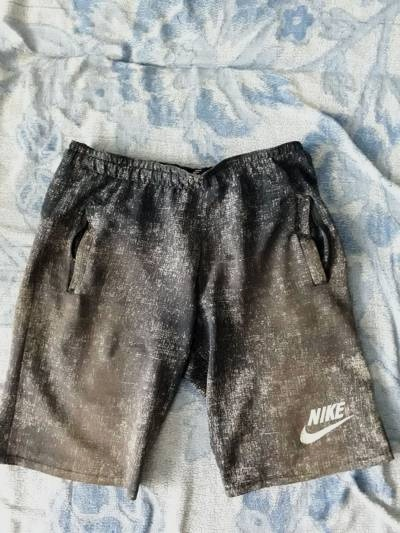Pants: (1, 118, 383, 502)
